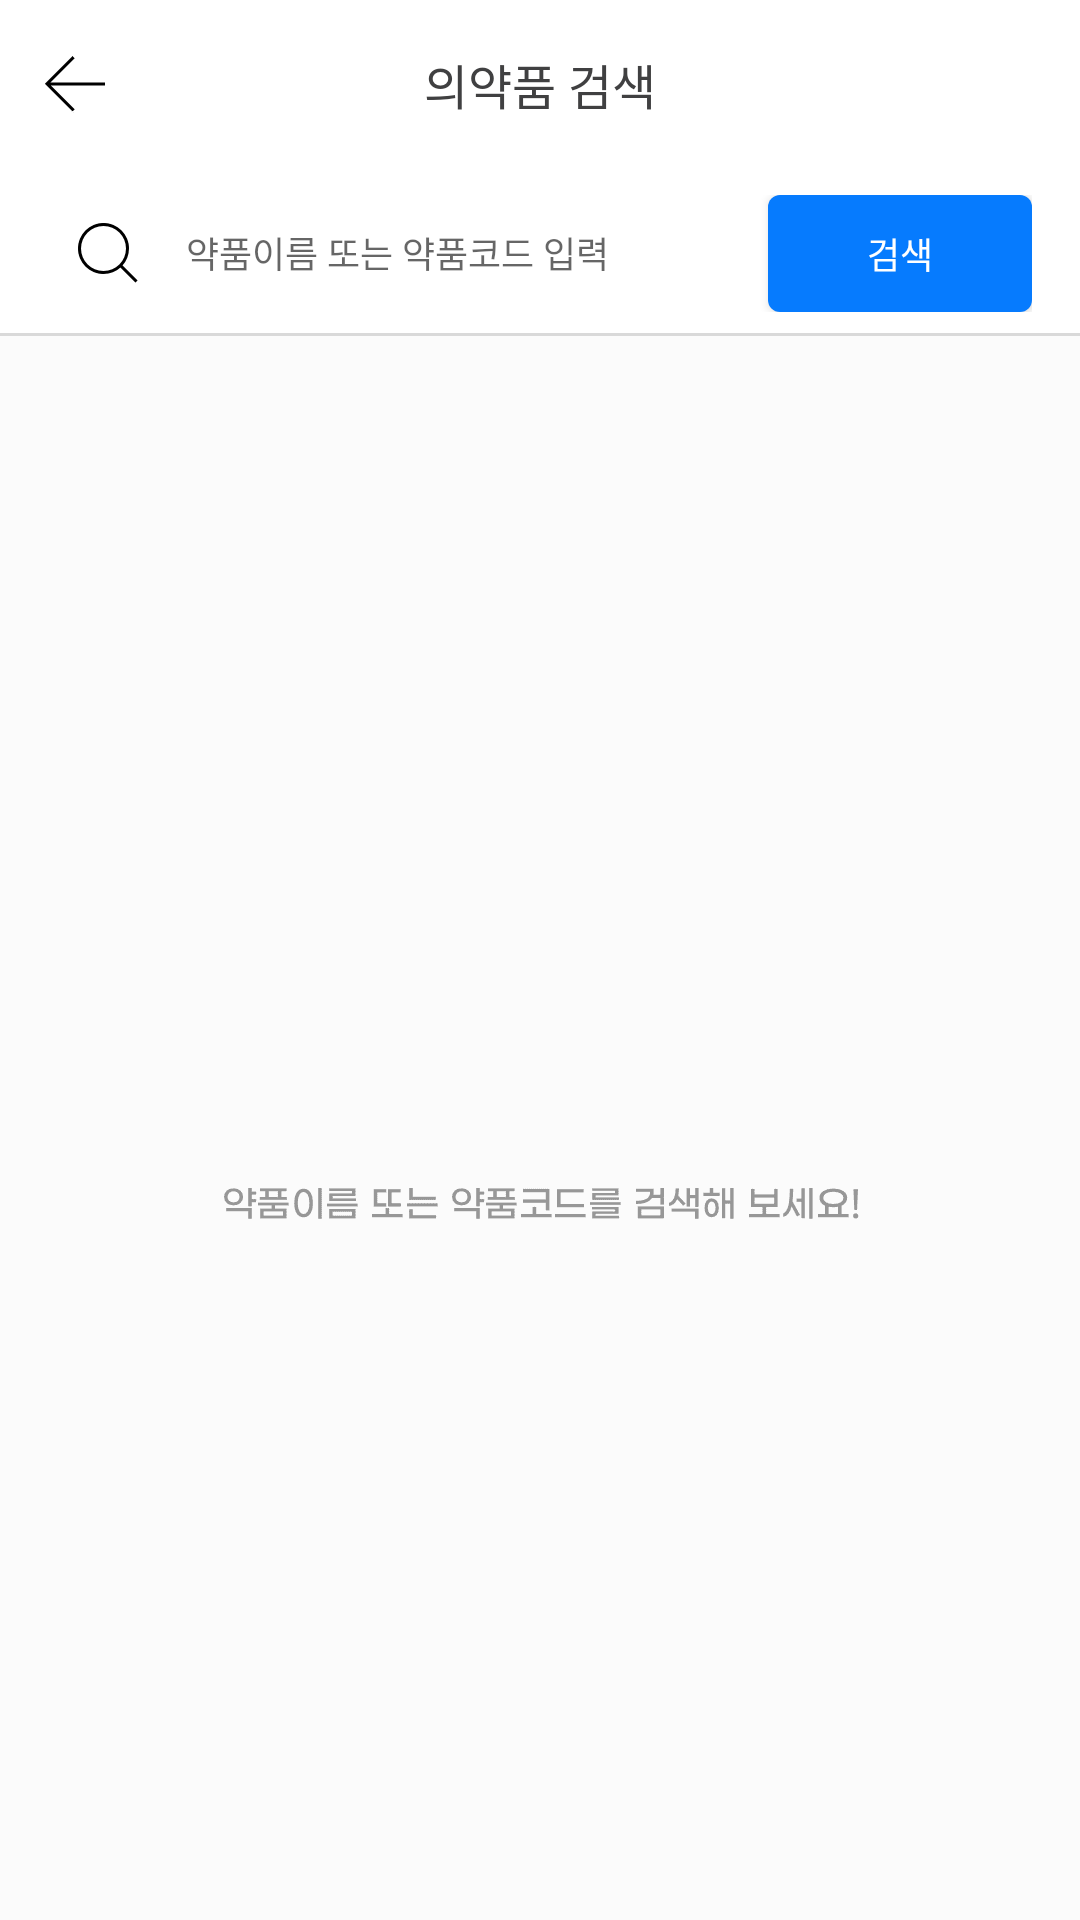

Icons on this 1080 × 1920 Android screen, each with the point to tap as [x,y]:
backbutton: [75,83]
